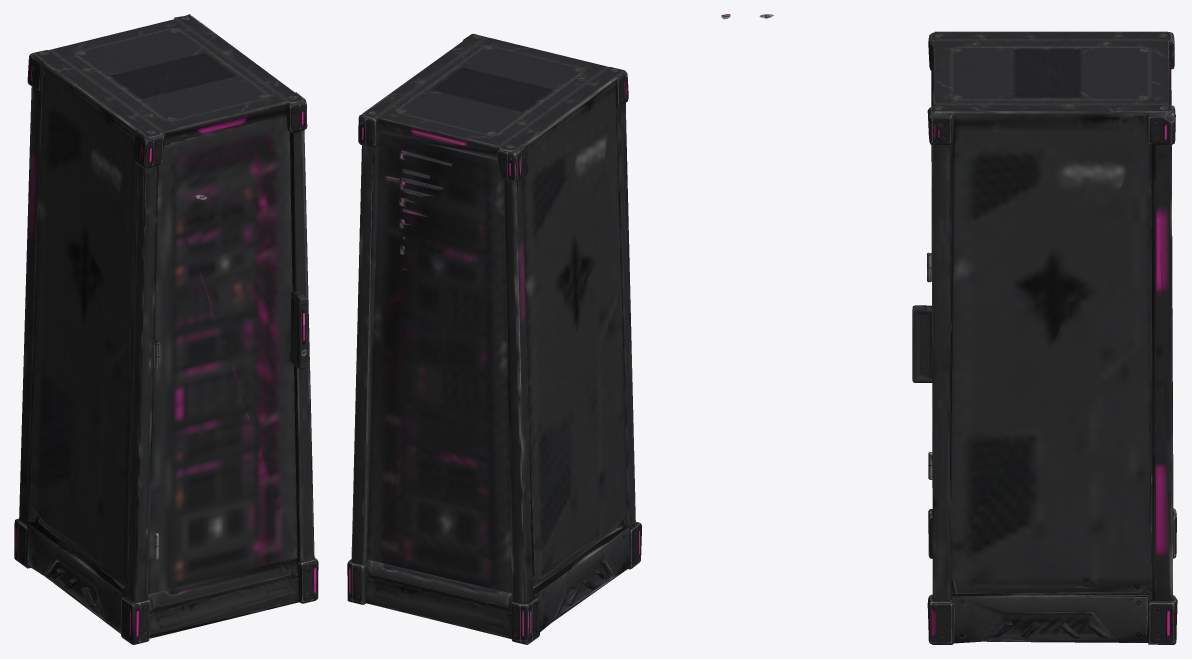
The model's file is server_rack.glb.
The picture shows the model from 3 angles, left to right: view 1: azimuth 30°, elevation 25°; view 2: azimuth 150°, elevation 25°; view 3: azimuth 270°, elevation 25°; orthographic projection. The views are drawn at different scales.
Parts seen in each view (by area): view 1: Mesh_0; view 2: Mesh_0; view 3: Mesh_0.
Boxes of the visible parts, bbox=[...] form: Mesh_0: bbox=[14, 14, 318, 644]; Mesh_0: bbox=[347, 14, 730, 644]; Mesh_0: bbox=[759, 14, 1177, 644].
Size of the model in its own units: 0.4131 by 1 by 0.7158.
Materials: 1 (1 with a texture image).
